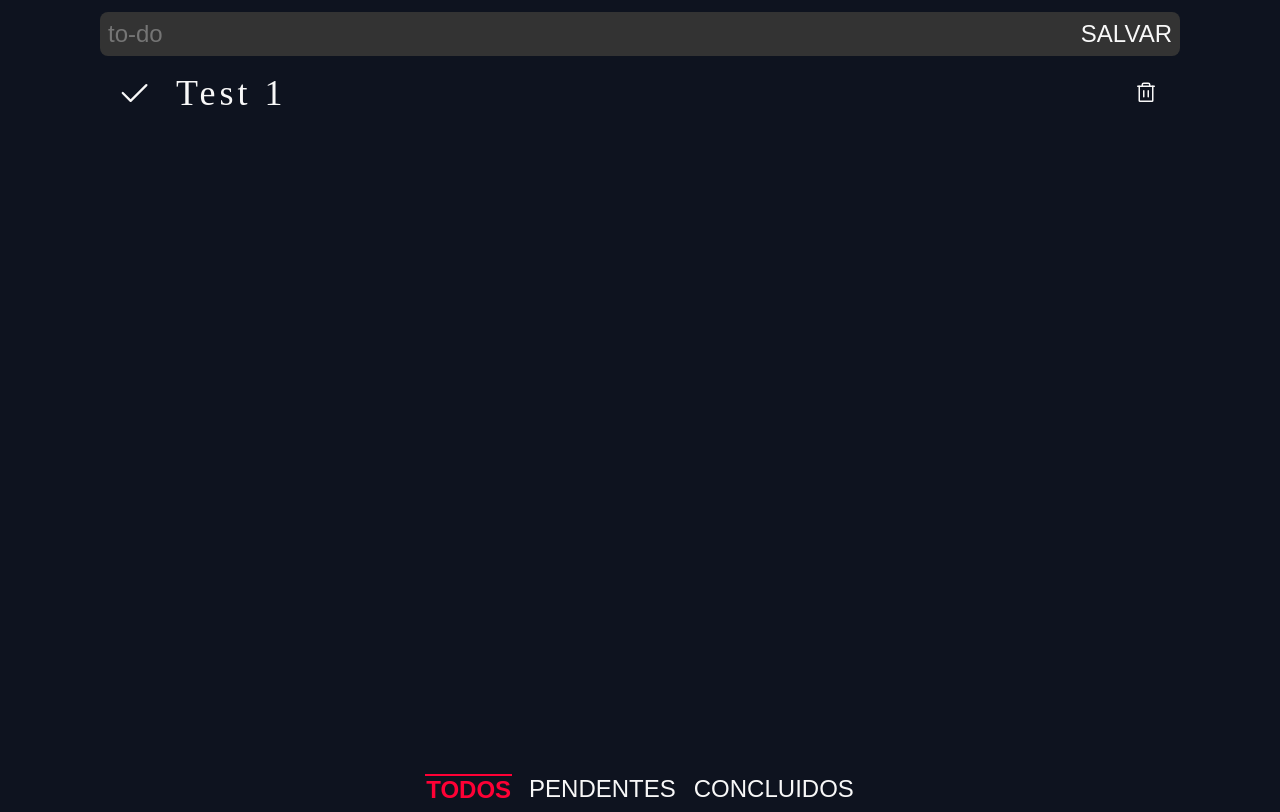
Todos page spec › should be able to delete a todo
Type "test 2" into the field with placeholder "to-do". click: x=587, y=34
box: [100, 12, 1073, 56]
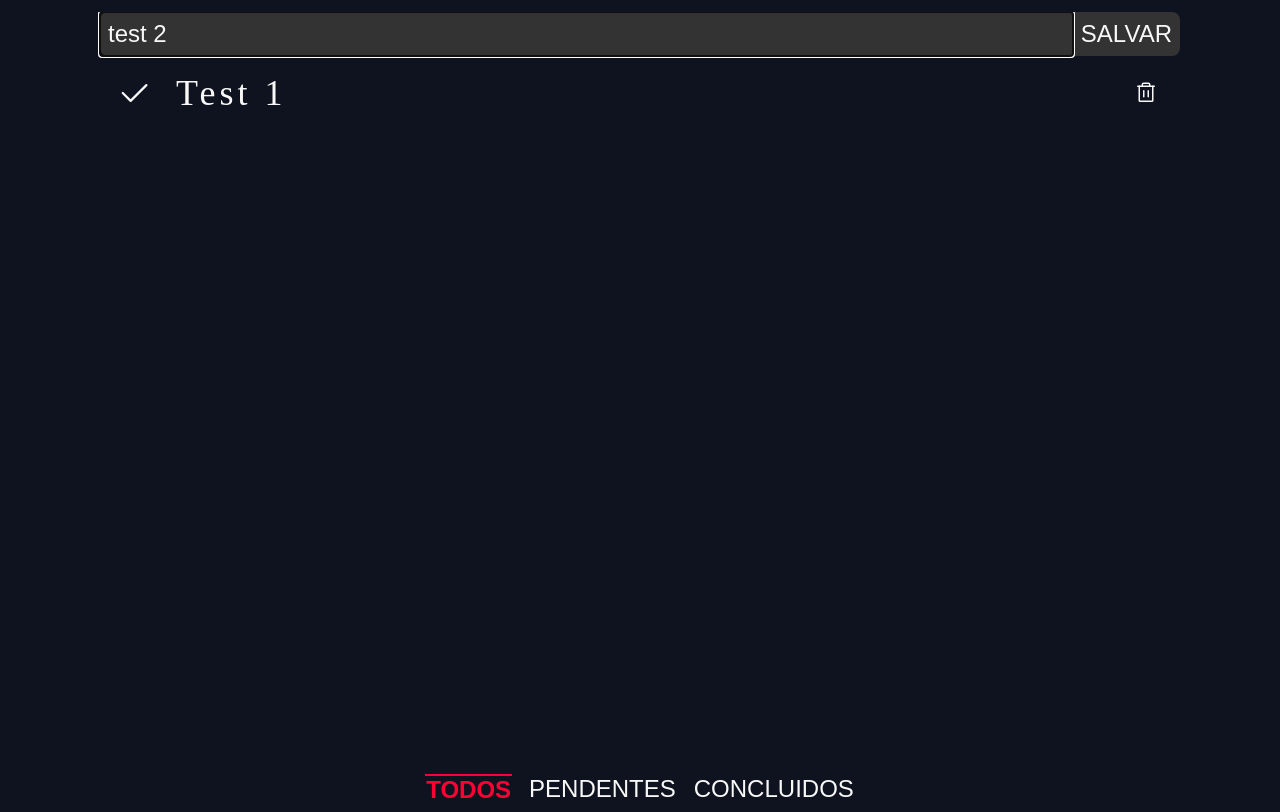
Click the button "Salvar". click: x=1127, y=34
box: [1073, 12, 1180, 56]
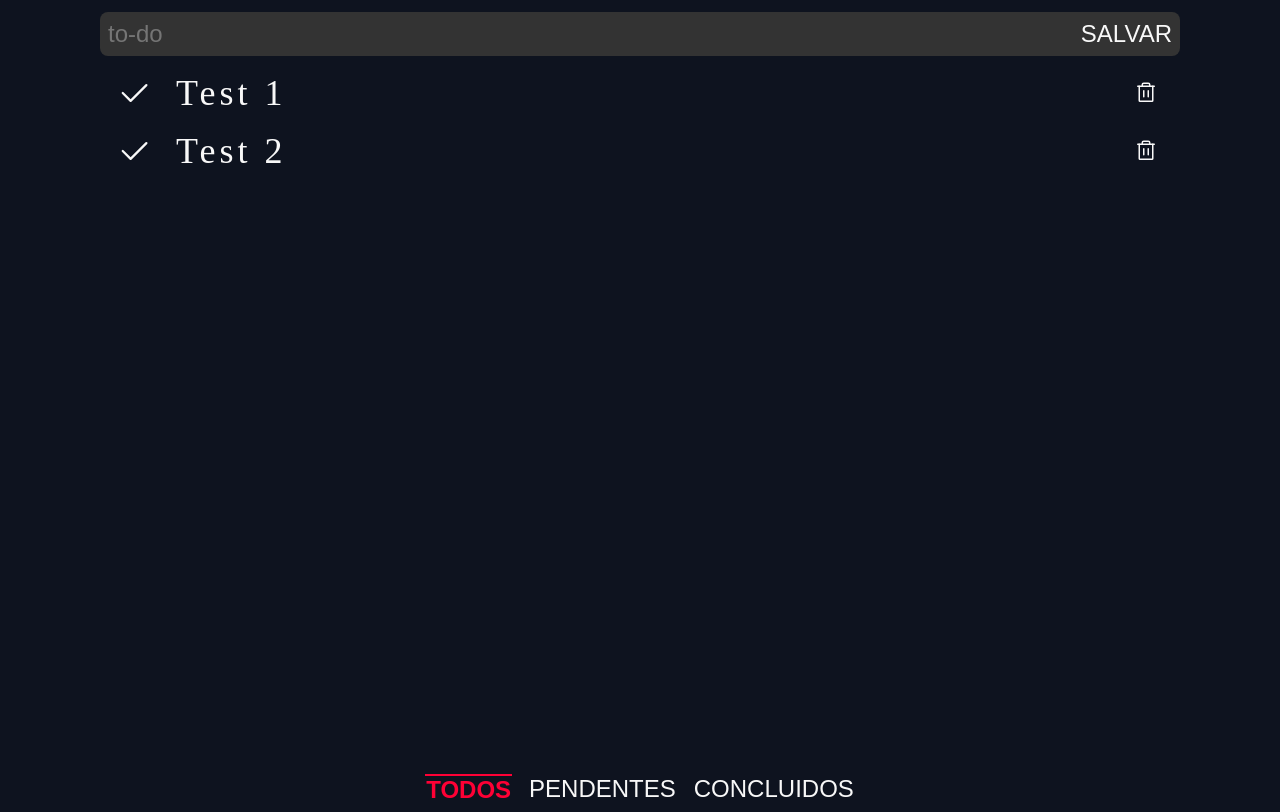
Click the button without text in the row of "test 2". click: x=1146, y=151
box: [1128, 133, 1164, 169]
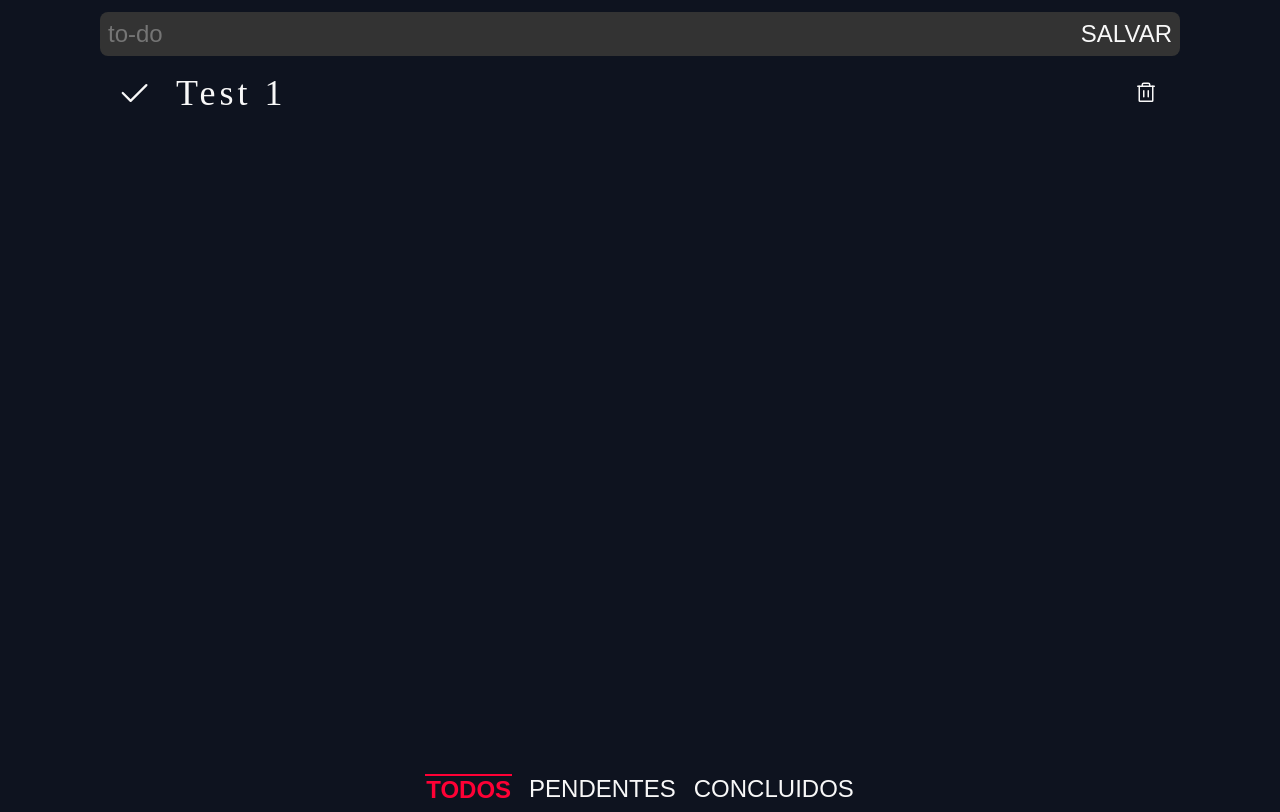
Now the text "test 2" is gone
